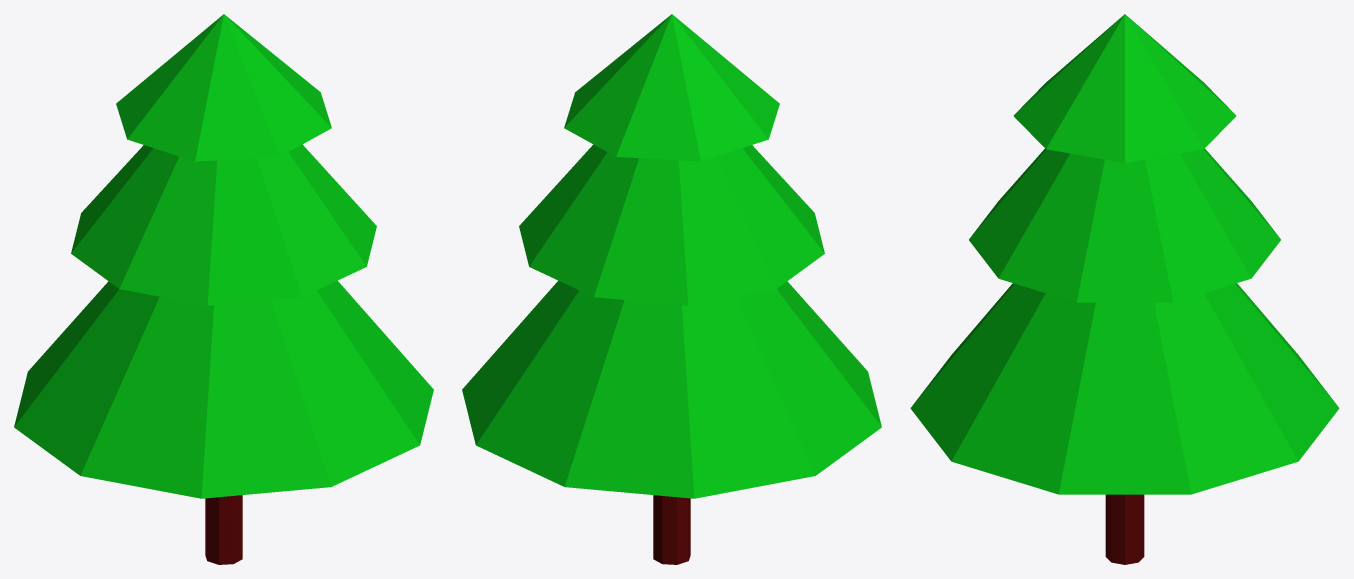
Rendered from Tree.fbx.
3 views of the same model, side by side, from view 1: azimuth 30°, elevation 25°; view 2: azimuth 150°, elevation 25°; view 3: azimuth 270°, elevation 25° (orthographic).
Parts seen in each view (by area): view 1: Cone.002, Cone.001, Cone, Cylinder; view 2: Cone.002, Cone.001, Cone, Cylinder; view 3: Cone.002, Cone.001, Cone, Cylinder.
Boxes of the visible parts, bbox=[...] form: Cone.002: bbox=[14, 280, 433, 498]; Cone.001: bbox=[71, 144, 376, 305]; Cone: bbox=[116, 14, 331, 161]; Cylinder: bbox=[205, 495, 242, 564]; Cone.002: bbox=[462, 280, 881, 498]; Cone.001: bbox=[519, 144, 824, 305]; Cone: bbox=[564, 14, 779, 161]; Cylinder: bbox=[653, 495, 690, 564]; Cone.002: bbox=[910, 283, 1339, 494]; Cone.001: bbox=[969, 148, 1280, 302]; Cone: bbox=[1013, 14, 1236, 162]; Cylinder: bbox=[1105, 494, 1144, 564].
Bounding box in the file's own units: 726 × 1065 × 763.
